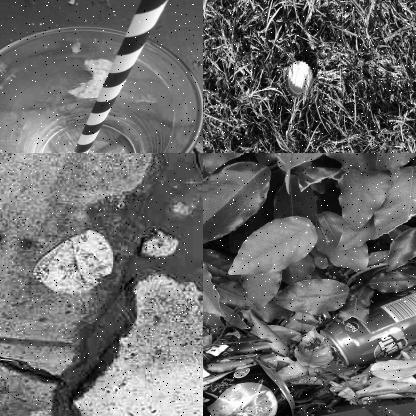glass: (0, 30, 202, 152)
metal: (318, 291, 415, 363), (203, 366, 296, 415), (203, 294, 244, 376)
plastic: (60, 0, 202, 152), (39, 227, 116, 297), (287, 62, 314, 96)
